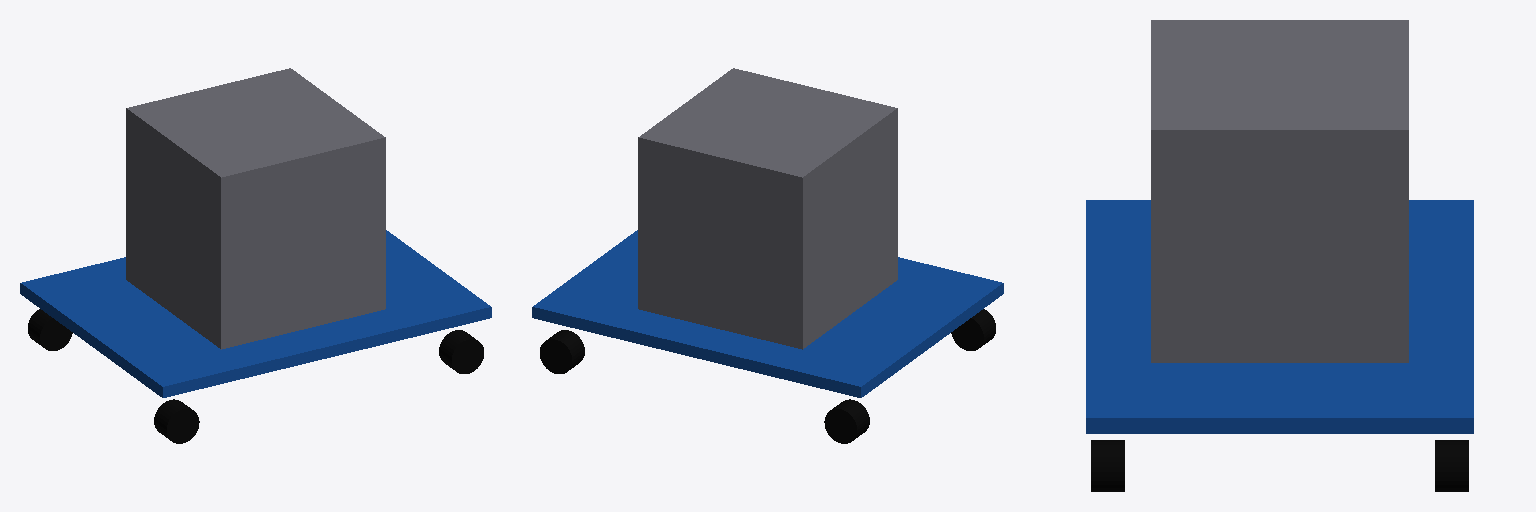
URDF robot description (passive_cart):
<?xml version="1.0"?>
<!-- P1 engineering model, not measured caster parameters.
     SI units; x forward, y left, z up.
     Deck 0.60 x 0.45 x 0.02 m with its underside 9 cm above the ground.
     Four 6 cm diameter caster-style wheels (r=0.03) mounted **under the deck,
     fully inside its footprint** (cart/omni-wheel form). Then a 0.30 m ballast
     cube fixed on the deck centre whose mass is the experiment's mass knob.
     Nominal: deck 0.8 + 4 x 0.05 wheels + ballast 2.0 = 3.0 kg.
     Solid box/cylinder inertias about each link origin (all CoMs at their box
     centre). The attachment is a massless frame. Wheel damping is supplied by
     the experiment, never duplicated here. -->
<robot name="passive_cart">
  <material name="deck_blue"><color rgba="0.12 0.35 0.65 1"/></material>
  <material name="wheel_dark"><color rgba="0.07 0.07 0.07 1"/></material>
  <material name="ballast_grey"><color rgba="0.45 0.45 0.48 1"/></material>
  <link name="base_link">
    <inertial>
      <origin xyz="0 0 0" rpy="0 0 0"/>
      <mass value="0.8"/>
      <inertia ixx="0.013526666666666666" ixy="0" ixz="0"
               iyy="0.024026666666666666" iyz="0" izz="0.03749999999999999"/>
    </inertial>
    <visual><geometry><box size="0.6 0.45 0.02"/></geometry><material name="deck_blue"/></visual>
    <collision><geometry><box size="0.6 0.45 0.02"/></geometry></collision>
  </link>
  <link name="ballast">
    <inertial>
      <origin xyz="0 0 0" rpy="0 0 0"/>
      <mass value="2.0"/>
      <inertia ixx="0.03" ixy="0" ixz="0" iyy="0.03" iyz="0" izz="0.03"/>
    </inertial>
    <visual><geometry><box size="0.3 0.3 0.3"/></geometry><material name="ballast_grey"/></visual>
    <collision><geometry><box size="0.3 0.3 0.3"/></geometry></collision>
  </link>
  <link name="wheel_fl">
    <inertial>
      <origin xyz="0 0 0" rpy="0 0 0"/>
      <mass value="0.05"/>
      <inertia ixx="1.7916666666666667e-05" ixy="0" ixz="0"
               iyy="2.25e-05" iyz="0" izz="1.7916666666666667e-05"/>
    </inertial>
    <visual><origin rpy="1.5707963267948966 0 0"/><geometry><cylinder radius="0.03" length="0.04"/></geometry><material name="wheel_dark"/></visual>
    <collision><origin rpy="1.5707963267948966 0 0"/><geometry><cylinder radius="0.03" length="0.04"/></geometry></collision>
  </link>
  <link name="wheel_fr">
    <inertial>
      <origin xyz="0 0 0" rpy="0 0 0"/>
      <mass value="0.05"/>
      <inertia ixx="1.7916666666666667e-05" ixy="0" ixz="0"
               iyy="2.25e-05" iyz="0" izz="1.7916666666666667e-05"/>
    </inertial>
    <visual><origin rpy="1.5707963267948966 0 0"/><geometry><cylinder radius="0.03" length="0.04"/></geometry><material name="wheel_dark"/></visual>
    <collision><origin rpy="1.5707963267948966 0 0"/><geometry><cylinder radius="0.03" length="0.04"/></geometry></collision>
  </link>
  <link name="wheel_rl">
    <inertial>
      <origin xyz="0 0 0" rpy="0 0 0"/>
      <mass value="0.05"/>
      <inertia ixx="1.7916666666666667e-05" ixy="0" ixz="0"
               iyy="2.25e-05" iyz="0" izz="1.7916666666666667e-05"/>
    </inertial>
    <visual><origin rpy="1.5707963267948966 0 0"/><geometry><cylinder radius="0.03" length="0.04"/></geometry><material name="wheel_dark"/></visual>
    <collision><origin rpy="1.5707963267948966 0 0"/><geometry><cylinder radius="0.03" length="0.04"/></geometry></collision>
  </link>
  <link name="wheel_rr">
    <inertial>
      <origin xyz="0 0 0" rpy="0 0 0"/>
      <mass value="0.05"/>
      <inertia ixx="1.7916666666666667e-05" ixy="0" ixz="0"
               iyy="2.25e-05" iyz="0" izz="1.7916666666666667e-05"/>
    </inertial>
    <visual><origin rpy="1.5707963267948966 0 0"/><geometry><cylinder radius="0.03" length="0.04"/></geometry><material name="wheel_dark"/></visual>
    <collision><origin rpy="1.5707963267948966 0 0"/><geometry><cylinder radius="0.03" length="0.04"/></geometry></collision>
  </link>
  <joint name="ballast_joint" type="fixed">
    <parent link="base_link"/><child link="ballast"/><origin xyz="0 0 0.16"/>
  </joint>
  <joint name="wheel_fl_joint" type="continuous">
    <parent link="base_link"/><child link="wheel_fl"/><origin xyz="0.26 0.20 -0.07"/><axis xyz="0 1 0"/>
    <limit effort="20" velocity="100"/><dynamics damping="0" friction="0"/>
  </joint>
  <joint name="wheel_fr_joint" type="continuous">
    <parent link="base_link"/><child link="wheel_fr"/><origin xyz="0.26 -0.20 -0.07"/><axis xyz="0 1 0"/>
    <limit effort="20" velocity="100"/><dynamics damping="0" friction="0"/>
  </joint>
  <joint name="wheel_rl_joint" type="continuous">
    <parent link="base_link"/><child link="wheel_rl"/><origin xyz="-0.26 0.20 -0.07"/><axis xyz="0 1 0"/>
    <limit effort="20" velocity="100"/><dynamics damping="0" friction="0"/>
  </joint>
  <joint name="wheel_rr_joint" type="continuous">
    <parent link="base_link"/><child link="wheel_rr"/><origin xyz="-0.26 -0.20 -0.07"/><axis xyz="0 1 0"/>
    <limit effort="20" velocity="100"/><dynamics damping="0" friction="0"/>
  </joint>
  <link name="rope_attachment"/>
  <joint name="rope_attachment_joint" type="fixed">
    <parent link="base_link"/><child link="rope_attachment"/><origin xyz="0.30 0 0"/>
  </joint>
</robot>

--- What the picture shows (computed from the rendered views, not written in the file) ---
The picture shows the robot from 3 angles, left to right: view 1: azimuth 30°, elevation 25°; view 2: azimuth 150°, elevation 25°; view 3: azimuth 270°, elevation 25°; orthographic projection.
Model passive_cart with 7 links and 6 joints (4 continuous, 2 fixed), rooted at base_link, posed every joint at zero.
Visible links, largest first — view 1: ballast, base_link, wheel_rr, wheel_fr, wheel_rl; view 2: ballast, base_link, wheel_rl, wheel_fl, wheel_rr; view 3: ballast, base_link, wheel_fl, wheel_fr.
Boxes of the visible links, x1,y1,x2,y2 form: ballast: [126, 68, 385, 349]; base_link: [20, 230, 491, 397]; wheel_rr: [154, 399, 199, 443]; wheel_fr: [439, 330, 483, 373]; wheel_rl: [28, 309, 72, 350]; ballast: [638, 68, 897, 349]; base_link: [532, 230, 1003, 397]; wheel_rl: [824, 399, 869, 443]; wheel_fl: [540, 330, 584, 373]; wheel_rr: [951, 309, 995, 350]; ballast: [1151, 20, 1408, 362]; base_link: [1086, 200, 1473, 433]; wheel_fl: [1435, 440, 1468, 491]; wheel_fr: [1091, 440, 1124, 491].
Bounding box of the posed robot: 0.6 × 0.45 × 0.41 m (x, y, z).
Geometry: primitives only (box / cylinder / sphere), no mesh files.
